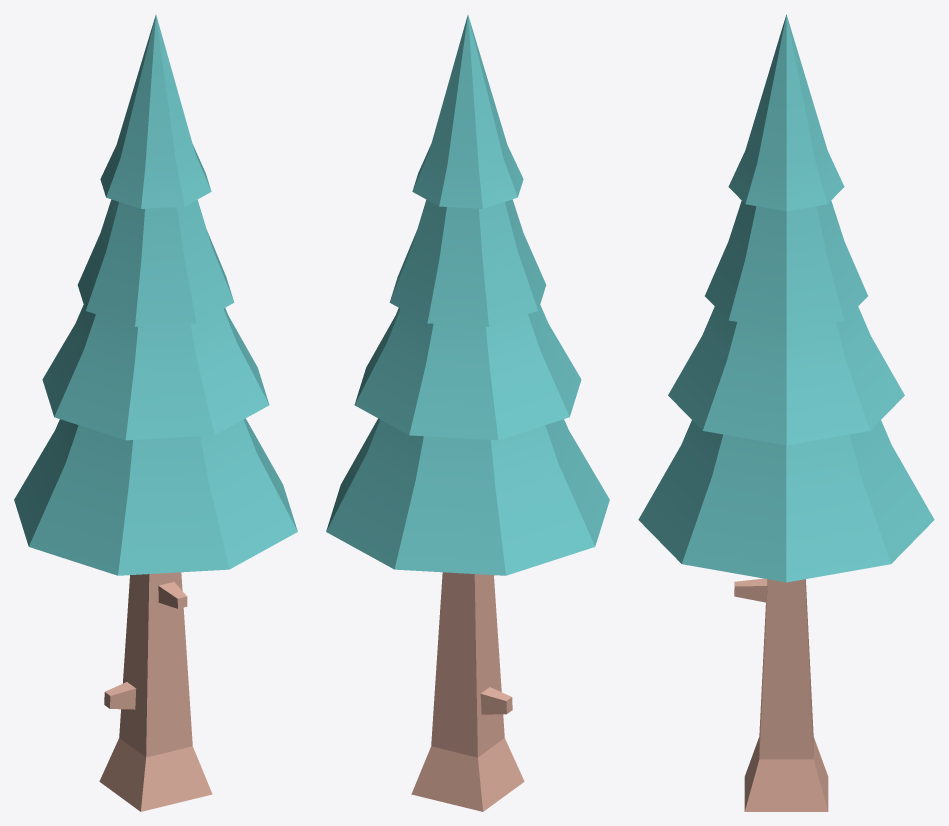
File: tree_pineDefaultA.gltf
The picture shows the model from 3 angles, left to right: view 1: azimuth 30°, elevation 25°; view 2: azimuth 150°, elevation 25°; view 3: azimuth 270°, elevation 25°; orthographic projection.
Visible parts, largest first — view 1: tree_pineDefaultA; view 2: tree_pineDefaultA; view 3: tree_pineDefaultA.
Part boxes in pixels (box(x1,y1,x2,y2)): tree_pineDefaultA: box(14, 15, 297, 811); tree_pineDefaultA: box(326, 15, 609, 811); tree_pineDefaultA: box(638, 14, 934, 811).
Bounding box in the file's own units: 0.532 × 1.55 × 0.532.
